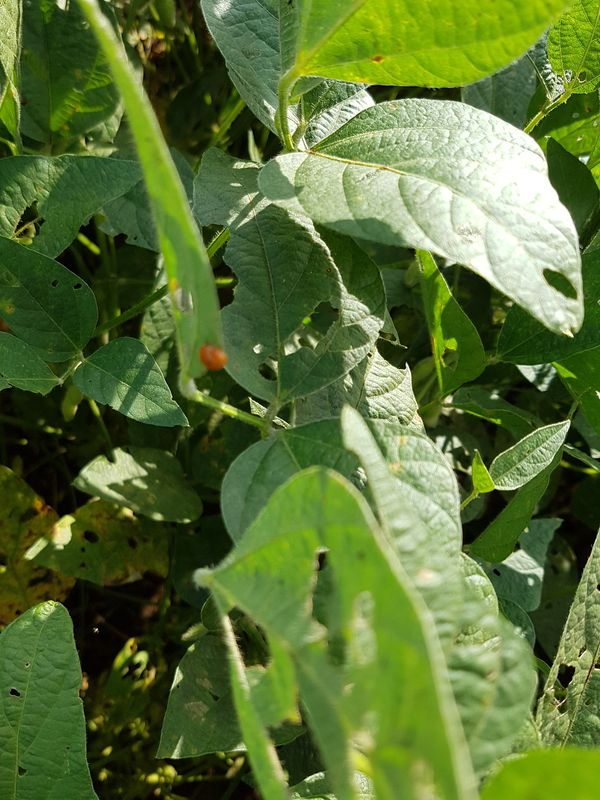Coccinellidae: (193, 337, 232, 378)
